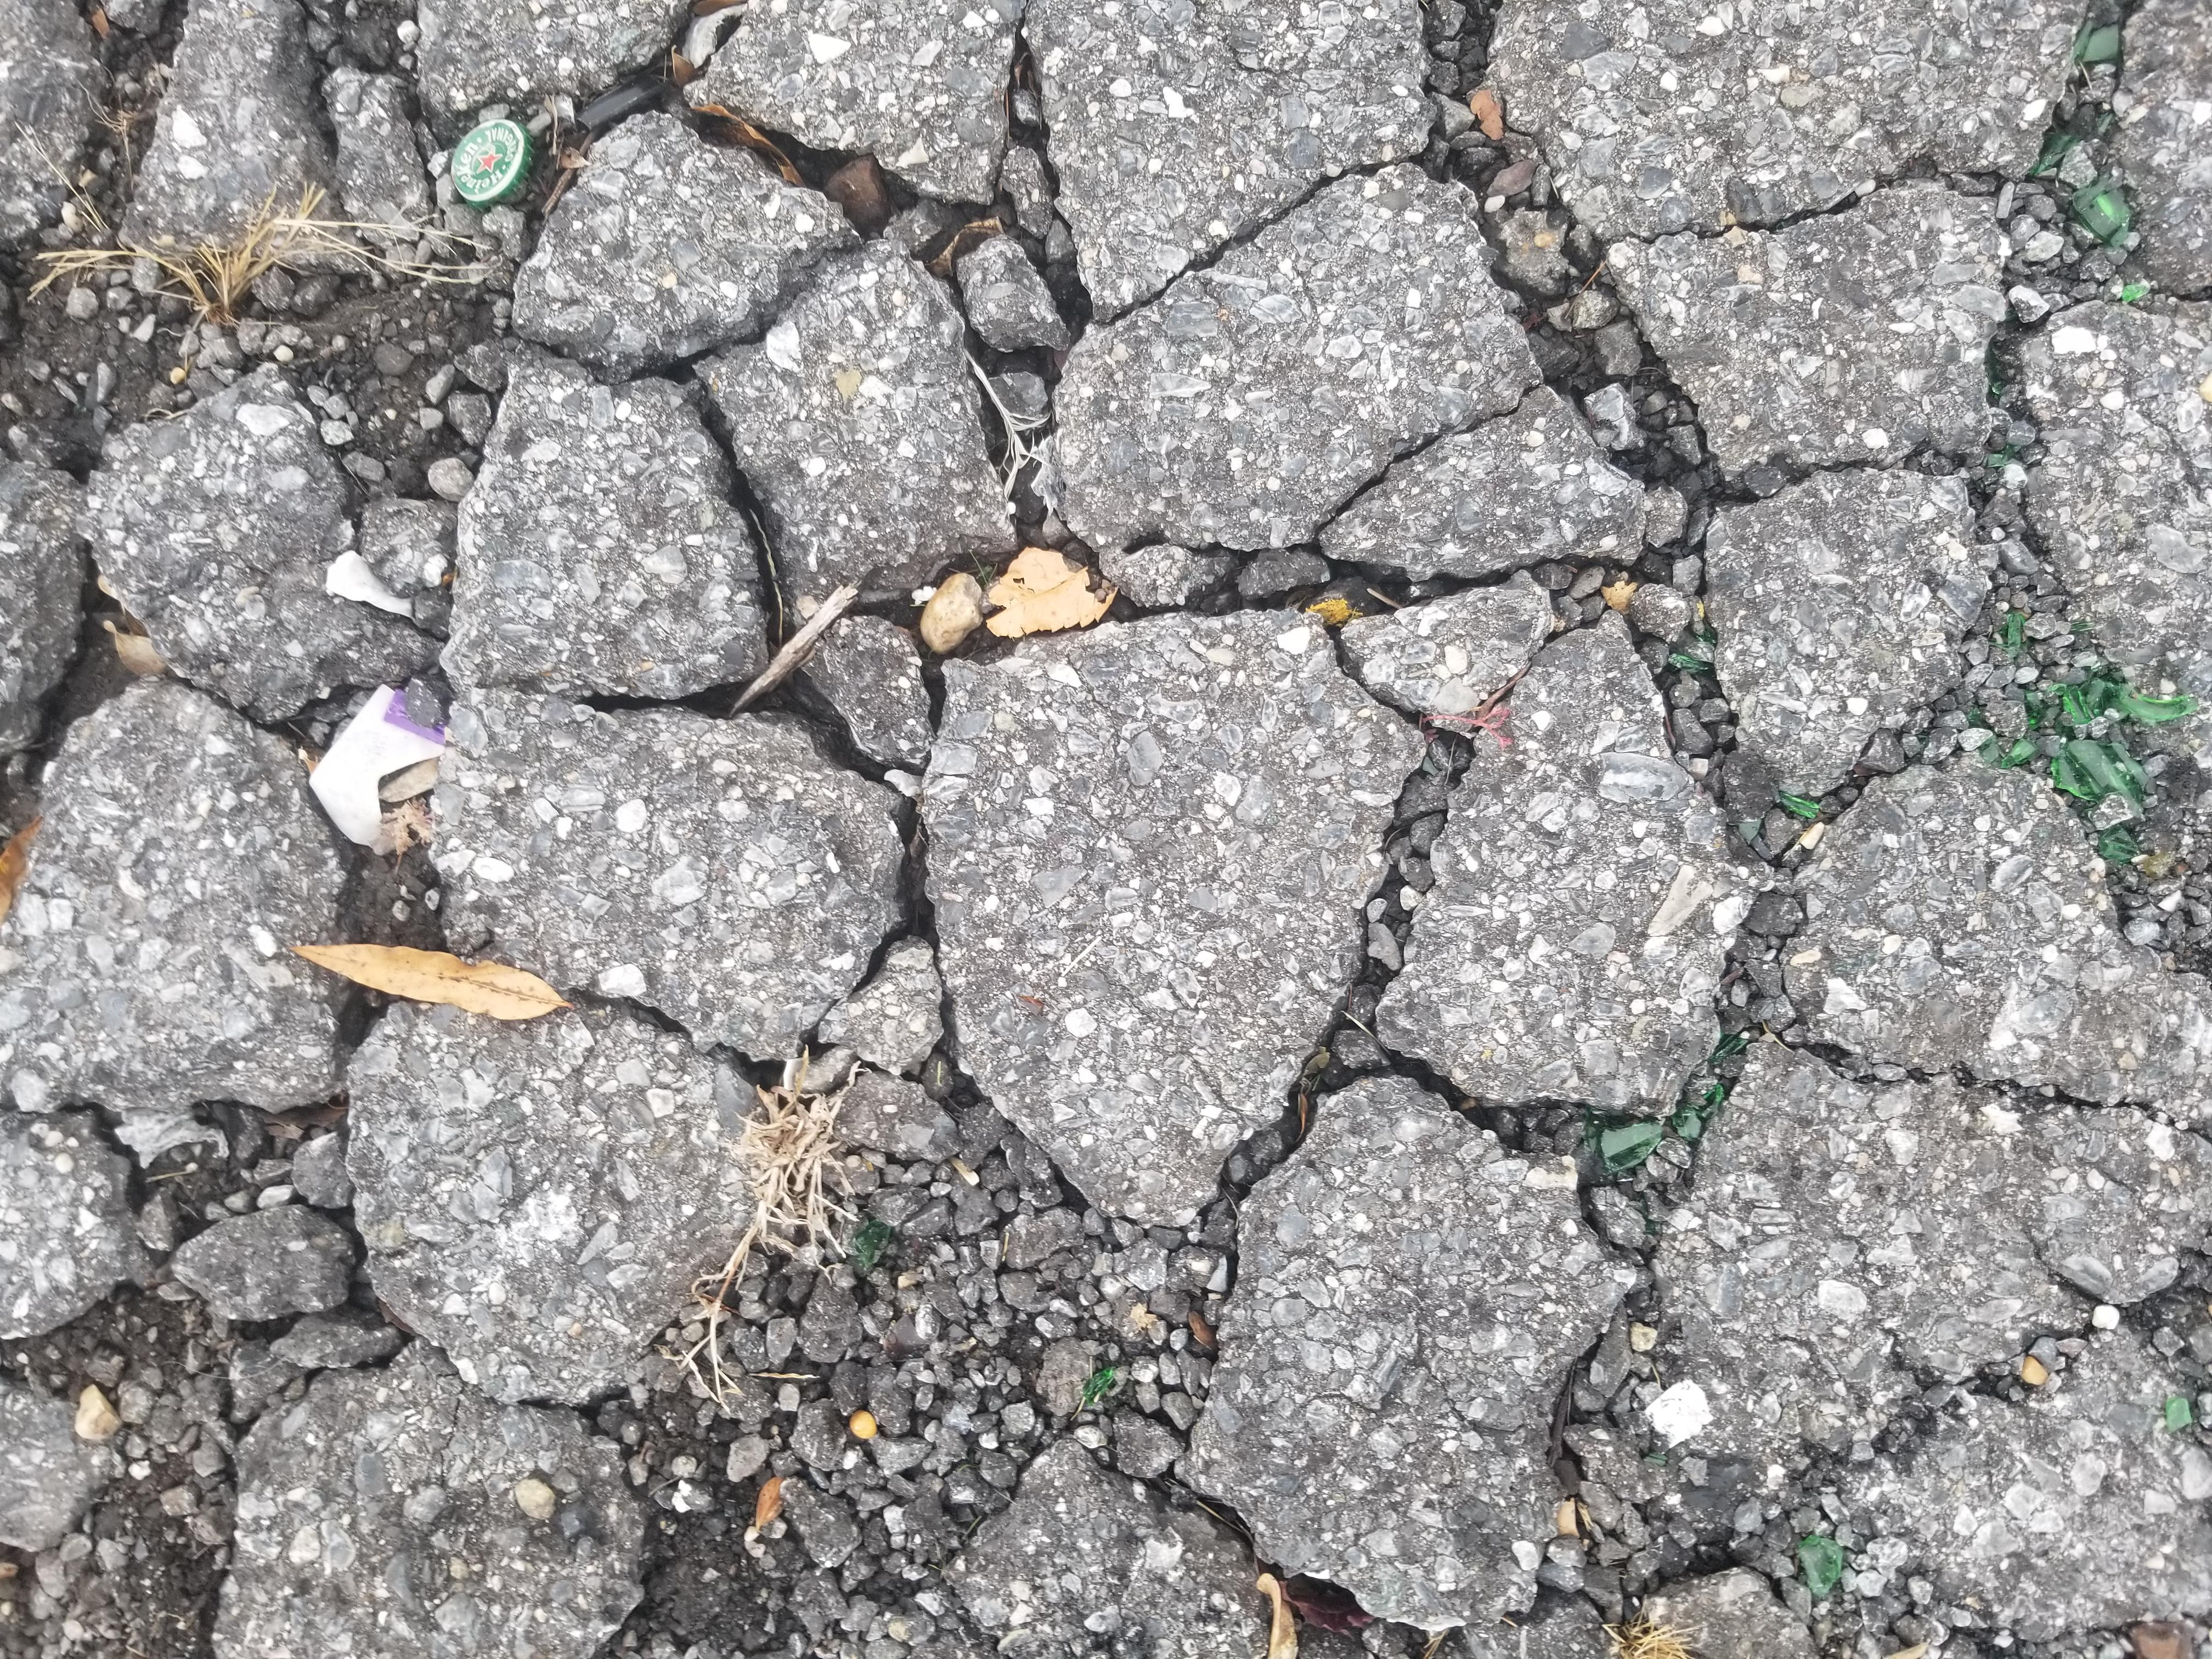crack: (599, 927, 1273, 1115), (1188, 1072, 1536, 1317), (1742, 836, 2048, 1066), (827, 599, 1360, 721), (253, 1382, 549, 1600), (1251, 498, 1719, 613), (721, 1291, 845, 1617), (1526, 1317, 1683, 1541)
pothole: (7, 464, 834, 927), (0, 0, 765, 263), (1550, 1061, 2212, 1317), (1533, 0, 1942, 389), (1723, 490, 2161, 828), (33, 1131, 519, 1319), (1353, 627, 1543, 1072), (794, 216, 1371, 356), (1928, 214, 2212, 490), (1766, 1483, 2212, 1622), (1163, 3, 1503, 124), (529, 1114, 779, 1276)
